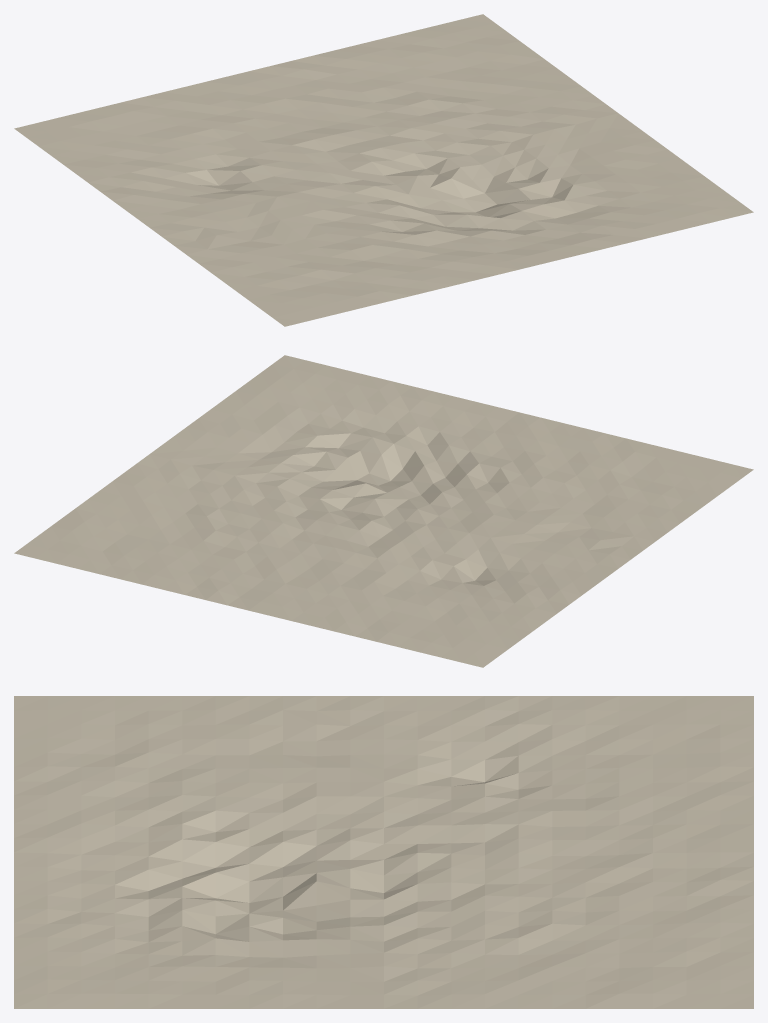
Rendered from Ground_s_03.fbx.
The picture shows the model from 3 angles, top to bottom: view 1: azimuth 30°, elevation 25°; view 2: azimuth 150°, elevation 25°; view 3: azimuth 270°, elevation 25°; orthographic projection. The views are drawn at different scales.
Parts seen in each view (by area): view 1: Ground_s_03; view 2: Ground_s_03; view 3: Ground_s_03.
Boxes of the visible parts, left/top/right/bottom form: Ground_s_03: left=14, top=14, right=753, bottom=326; Ground_s_03: left=14, top=355, right=753, bottom=667; Ground_s_03: left=14, top=696, right=753, bottom=1008.
Size of the model in its own units: 5000 by 173 by 5000.
